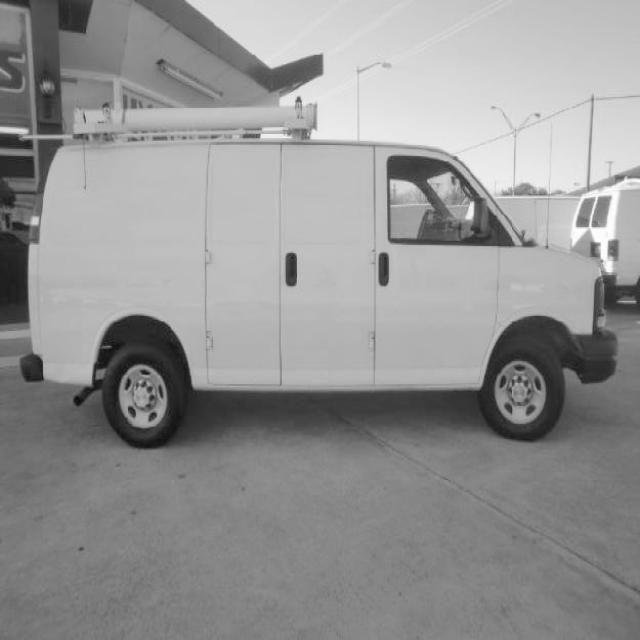plat_license: (20, 101, 618, 449)
